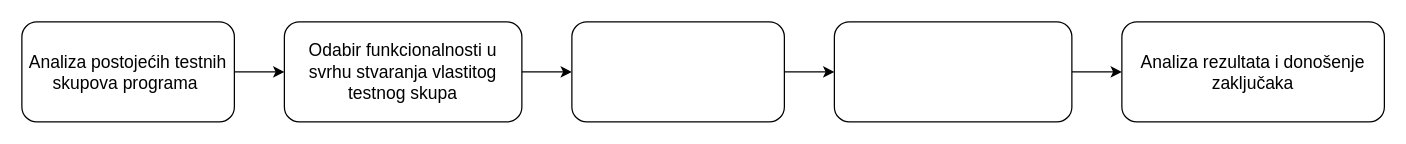
This 1406x144 diagram has some shape labels left out. The centre of each missing label's shape, as x and y in pixels:
Implementacija testnog skupa programa: (x=677, y=71)
Prikupljanje rezultata izvođenja oba prevoditelja nad stvorenim testnim skupom: (x=952, y=71)
